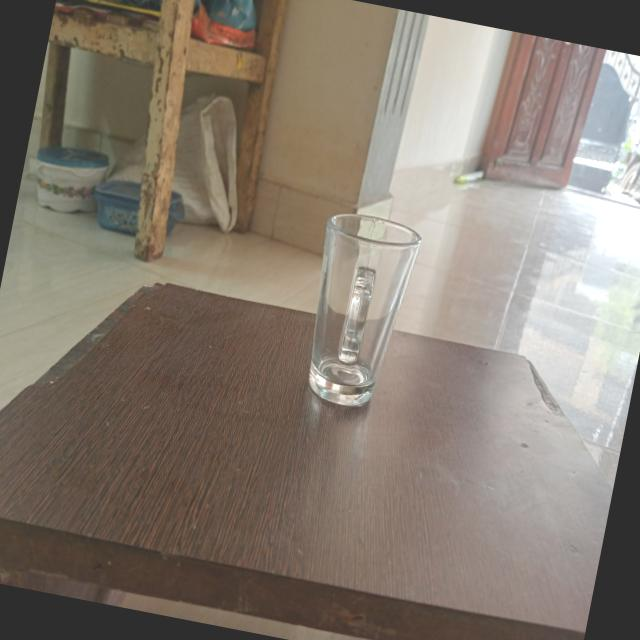glass-VX4N: (293, 200, 433, 424)
